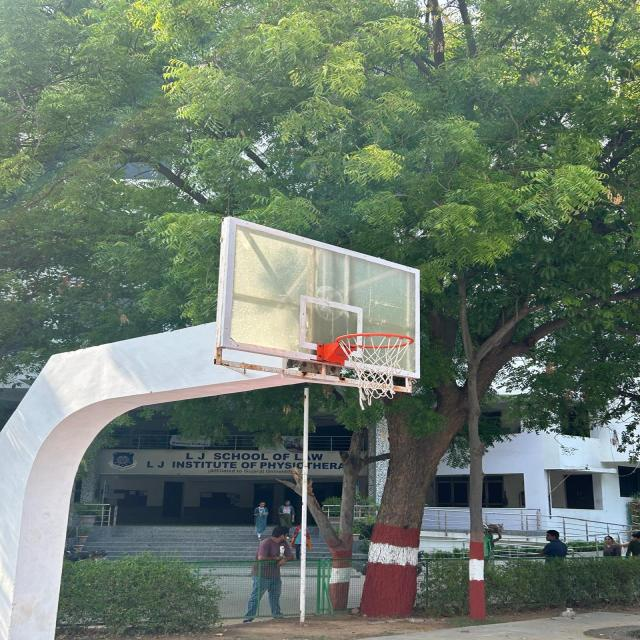hoop: (320, 327, 430, 422)
